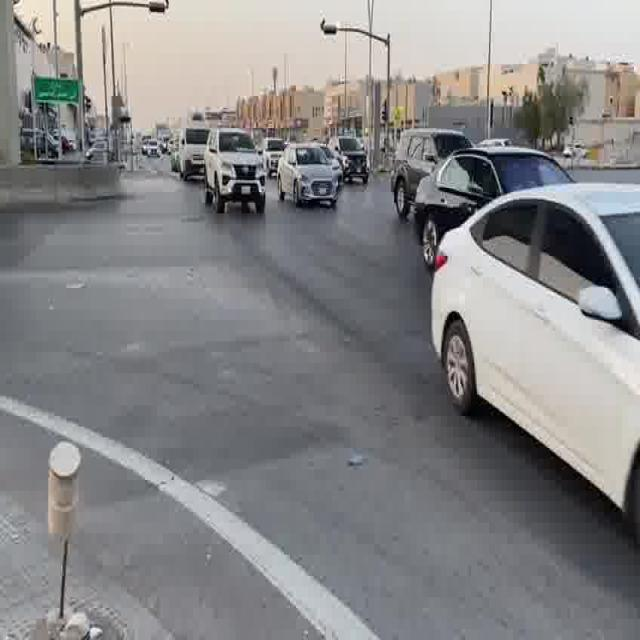bus: (419, 147, 578, 275), (390, 128, 476, 219), (203, 127, 267, 213), (279, 146, 342, 209), (178, 129, 208, 182), (342, 151, 370, 184), (266, 139, 288, 178), (141, 138, 160, 156)
car: (179, 209, 640, 640), (419, 147, 578, 275), (390, 128, 476, 219), (203, 127, 267, 213), (279, 146, 342, 209), (178, 129, 208, 182), (342, 151, 370, 184), (266, 139, 288, 178), (141, 138, 160, 156)
lanes: (179, 209, 640, 640), (226, 209, 639, 634)
lanes2: (226, 209, 639, 634), (260, 205, 640, 474)
lanes3: (260, 205, 640, 474), (286, 201, 640, 404)
lanes4: (286, 201, 640, 404), (327, 192, 640, 313)
lanes5: (327, 192, 640, 313)
